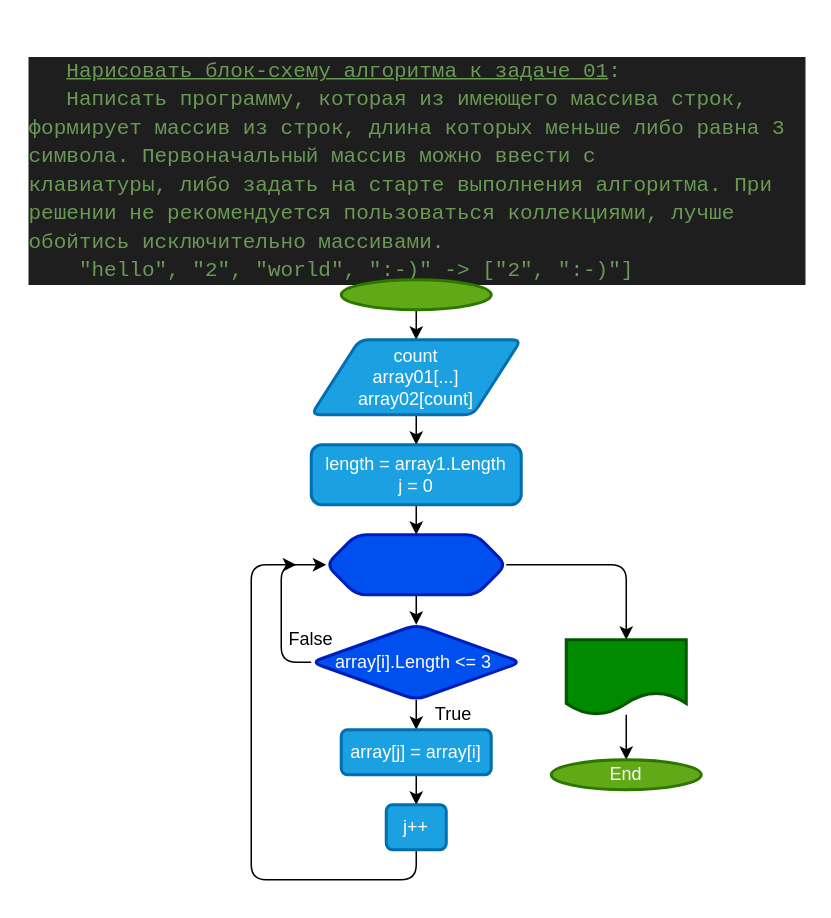
This 831x918 diagram has some shape labels left out. Here are the shapes that lost their labels. From the top down, the centre of each, then its label:
[415,294]: Start
[415,564]: i = 0; i < length; i++
[625,677]: array02[...]
